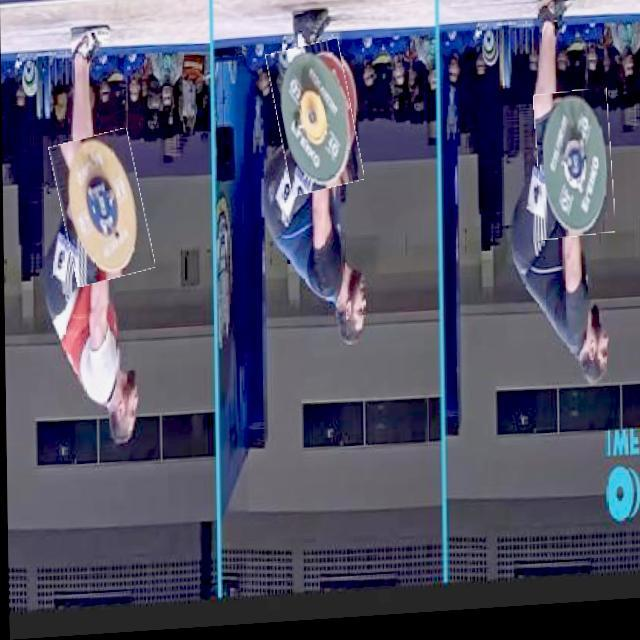barbell: (55, 132, 149, 287), (272, 46, 358, 200), (536, 97, 614, 248)
